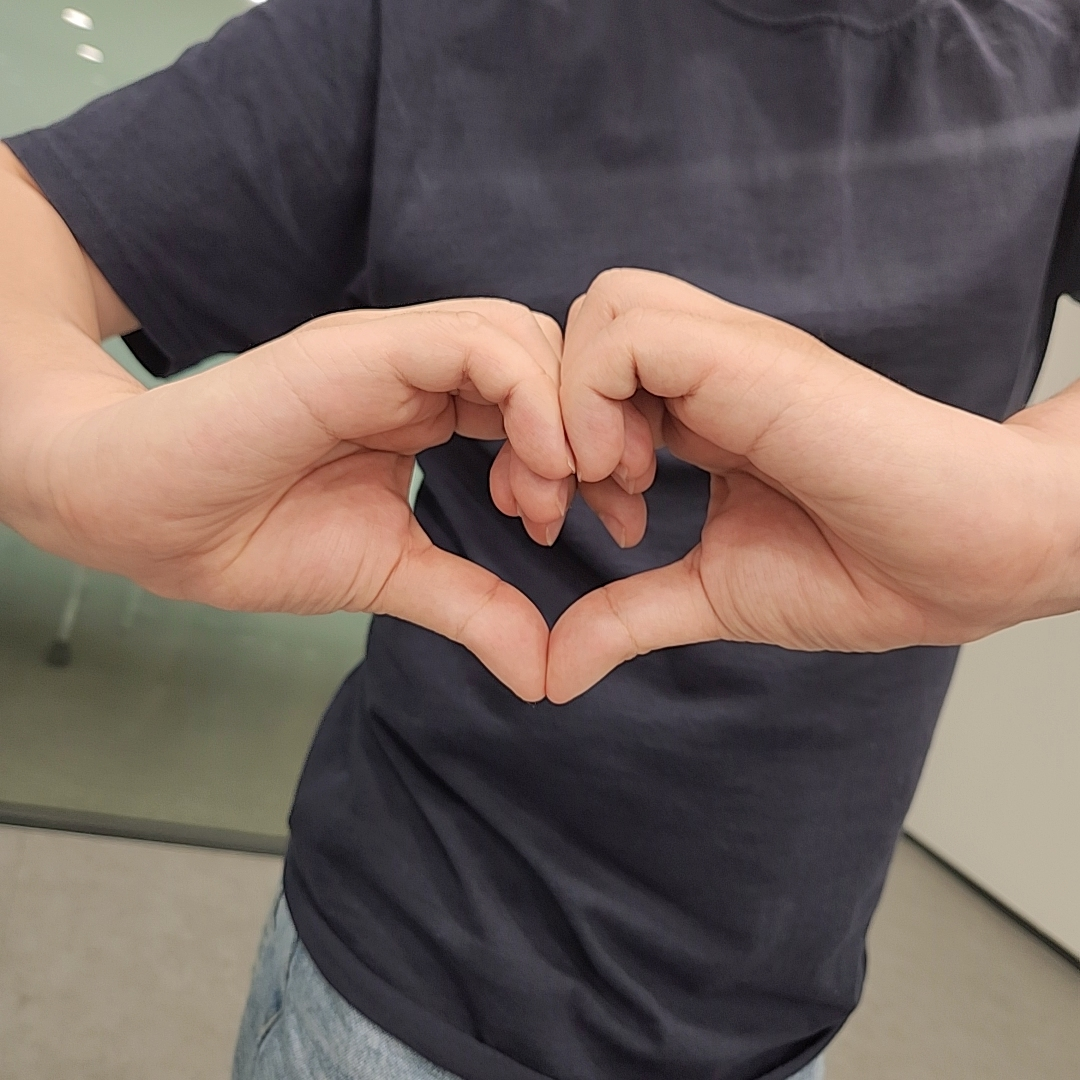heart: (143, 268, 975, 706)
